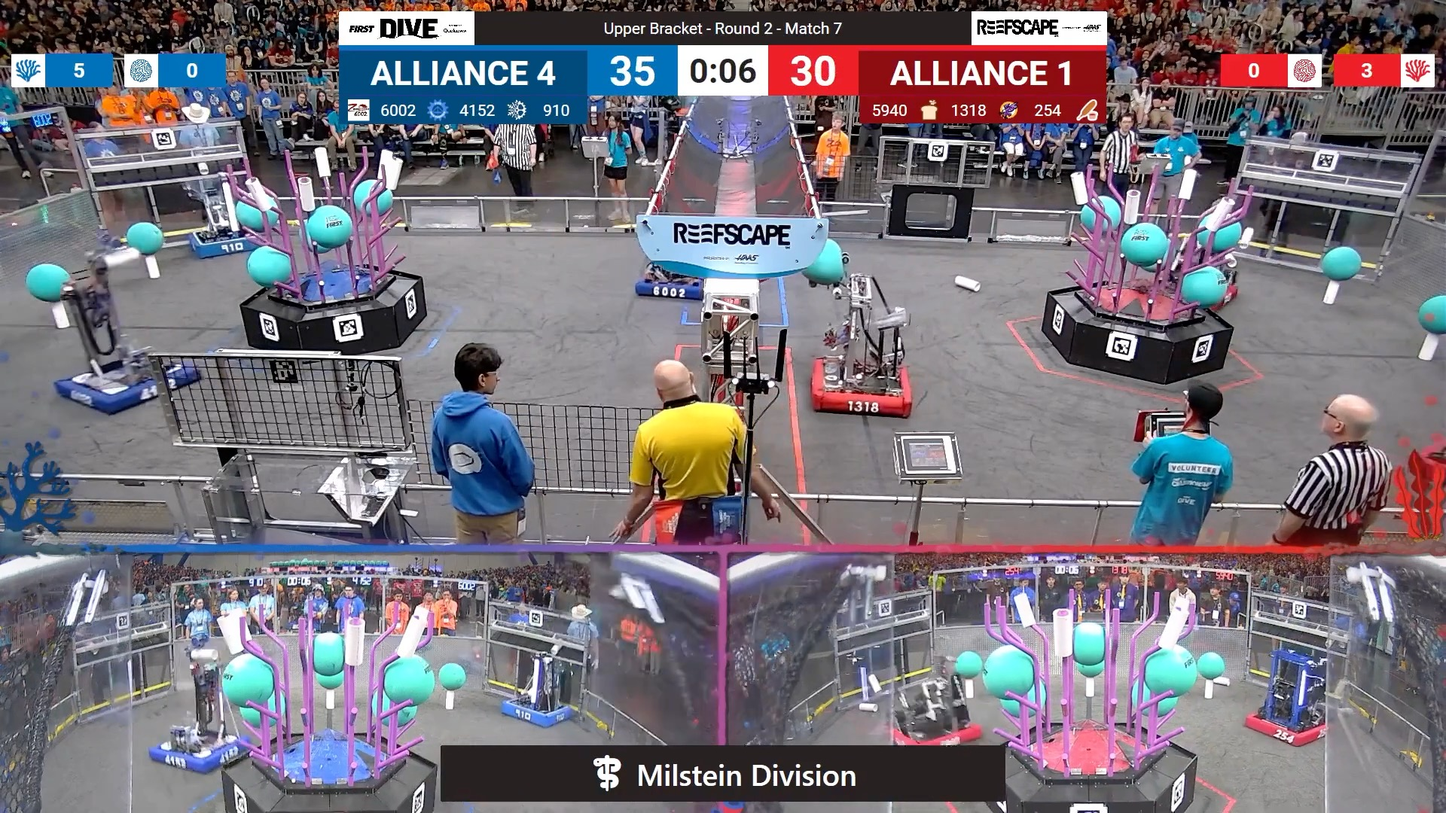bumpers: (45, 348, 206, 418), (800, 356, 927, 423), (144, 722, 252, 777), (1237, 704, 1332, 748), (882, 714, 985, 747), (183, 224, 270, 262), (497, 697, 579, 731), (628, 269, 709, 303)
